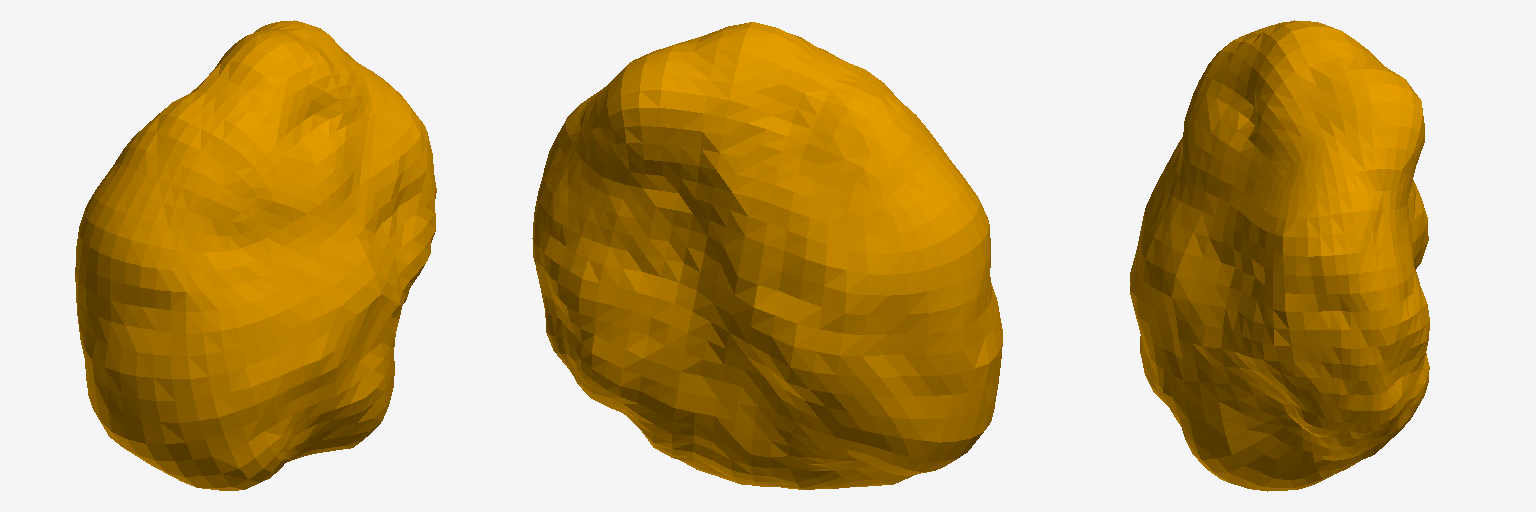
The robot description file, URDF, robot "rock":
<?xml version="1.0" ?>
<robot name="rock">
  <link name="rock">
    <inertial>
      <mass value="0.217"/>
      <origin rpy="0 0 0" xyz="0 0 0"/>
      <inertia ixx="0.000217" ixy="0" ixz="0" iyy="0.000217" iyz="0" izz="0.000217"/>
    </inertial>
    <collision name="rock_collision">
      <origin rpy="0 0 0" xyz="0 0 0"/>
      <geometry>
        <mesh filename="package://rocks/visual/225.dae" scale="1 1 1"/>
      </geometry>
    </collision>
    <visual name="rock_visual">
      <origin rpy="0 0 0" xyz="0 0 0"/>
      <geometry>
        <mesh filename="package://rocks/visual/225.dae" scale="1 1 1"/>
      </geometry>
    </visual>
  </link>
</robot>

--- What the picture shows (computed from the rendered views, not written in the file) ---
Views: 3 orthographic renders of the robot side by side, from view 1: azimuth 30°, elevation 25°; view 2: azimuth 150°, elevation 25°; view 3: azimuth 270°, elevation 25°.
Robot: rock — 1 links, 0 joints (none); root link rock; default pose: every joint at zero.
Visible links, largest first — view 1: rock; view 2: rock; view 3: rock.
Boxes of the visible links, x1,y1,x2,y2 form: rock: (75,20,436,490); rock: (532,22,1002,489); rock: (1130,20,1429,491).
Bounding box of the posed robot: 0.0706 × 0.0468 × 0.0759 m (x, y, z).
Meshes: 1 distinct files referenced, 1 mesh visuals loaded (1 Collada DAE).